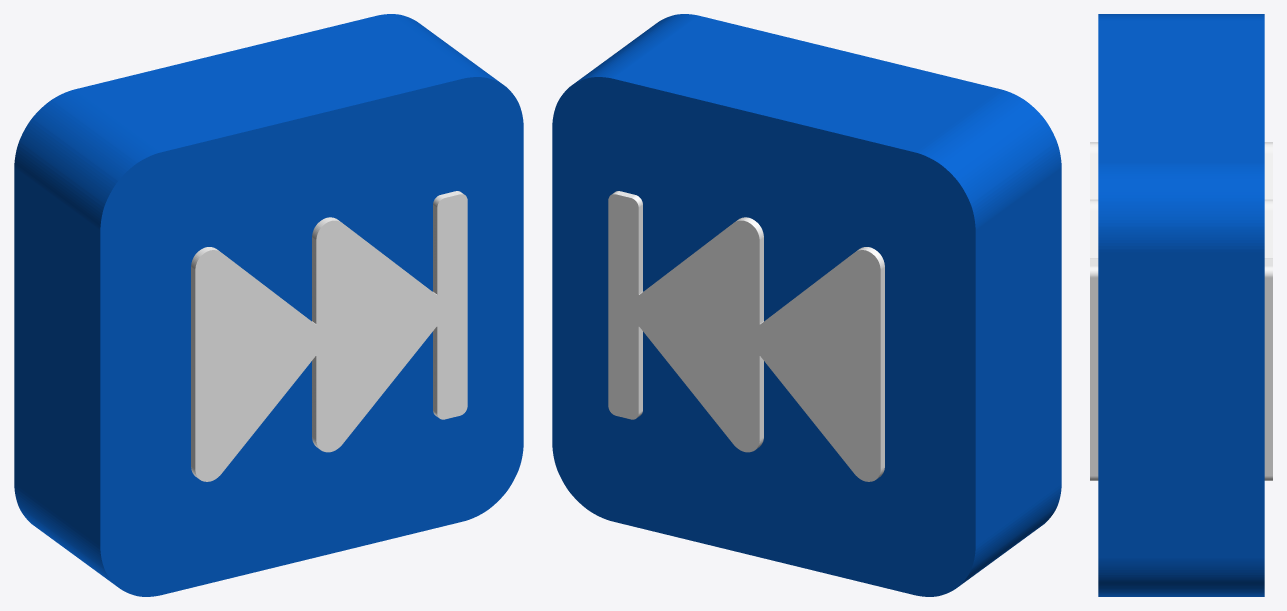
3 renders of one model, left to right at view 1: azimuth 30°, elevation 25°; view 2: azimuth 150°, elevation 25°; view 3: azimuth 270°, elevation 25°, orthographic. The views are drawn at different scales.
Parts seen in each view (by area): view 1: U+23ED_layer00_obj00, U+23ED_layer01_obj00; view 2: U+23ED_layer00_obj00, U+23ED_layer01_obj00; view 3: U+23ED_layer00_obj00, U+23ED_layer01_obj00.
Part boxes in pixels (left/top/right/bottom): U+23ED_layer00_obj00: left=14, top=14, right=523, bottom=596; U+23ED_layer01_obj00: left=191, top=191, right=467, bottom=481; U+23ED_layer00_obj00: left=552, top=14, right=1061, bottom=596; U+23ED_layer01_obj00: left=608, top=191, right=884, bottom=481; U+23ED_layer00_obj00: left=1098, top=14, right=1264, bottom=596; U+23ED_layer01_obj00: left=1090, top=142, right=1272, bottom=480.
Size of the model in its own units: 0.5678 by 0.5677 by 0.22.
